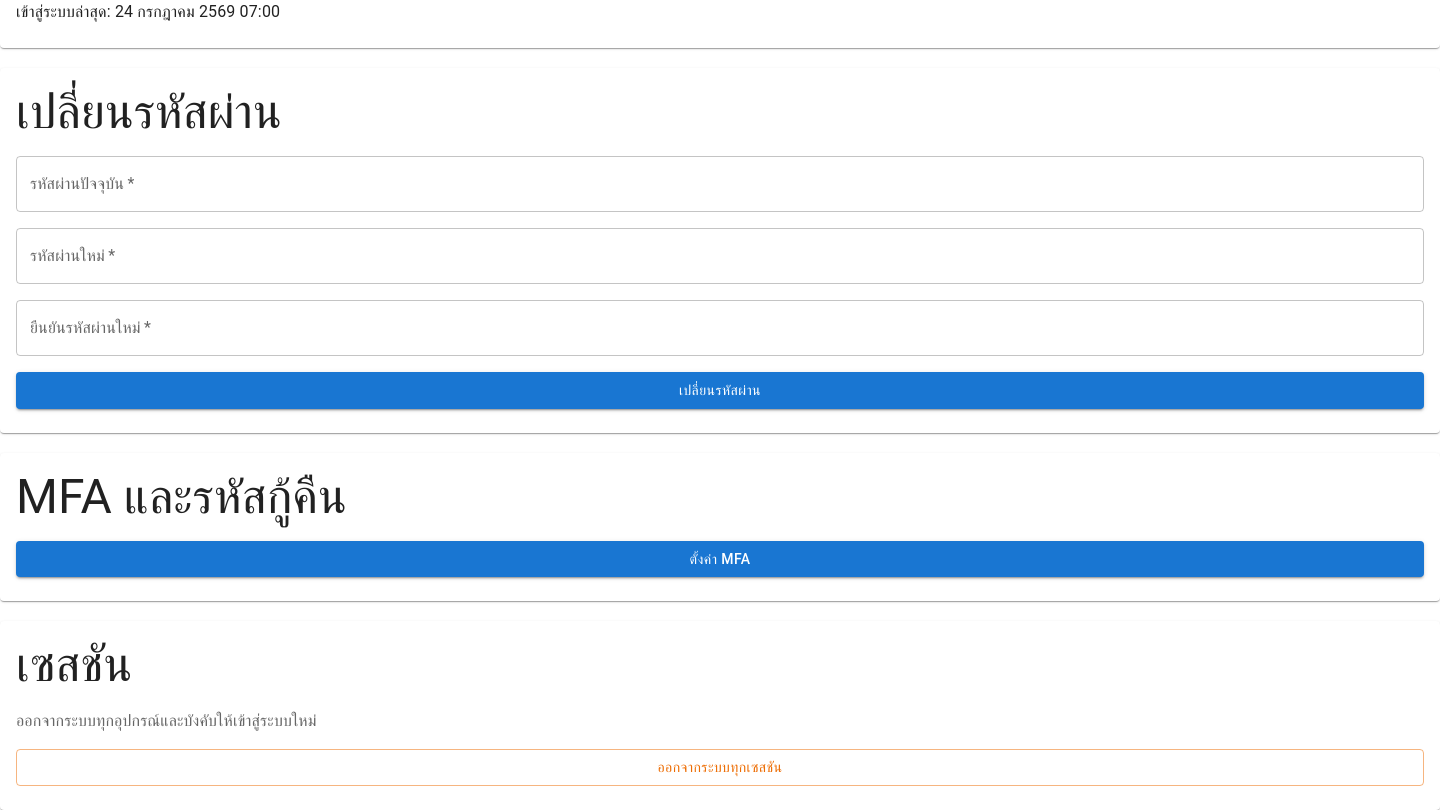
Test: AccountSecurityPage › does not retry confirmation when password step-up is cancelled
(page scrolled)
Click the button "ตั้งค่า MFA". click: x=720, y=559
box: top-left (16, 541), bottom-right (1424, 577)
(page scrolled)
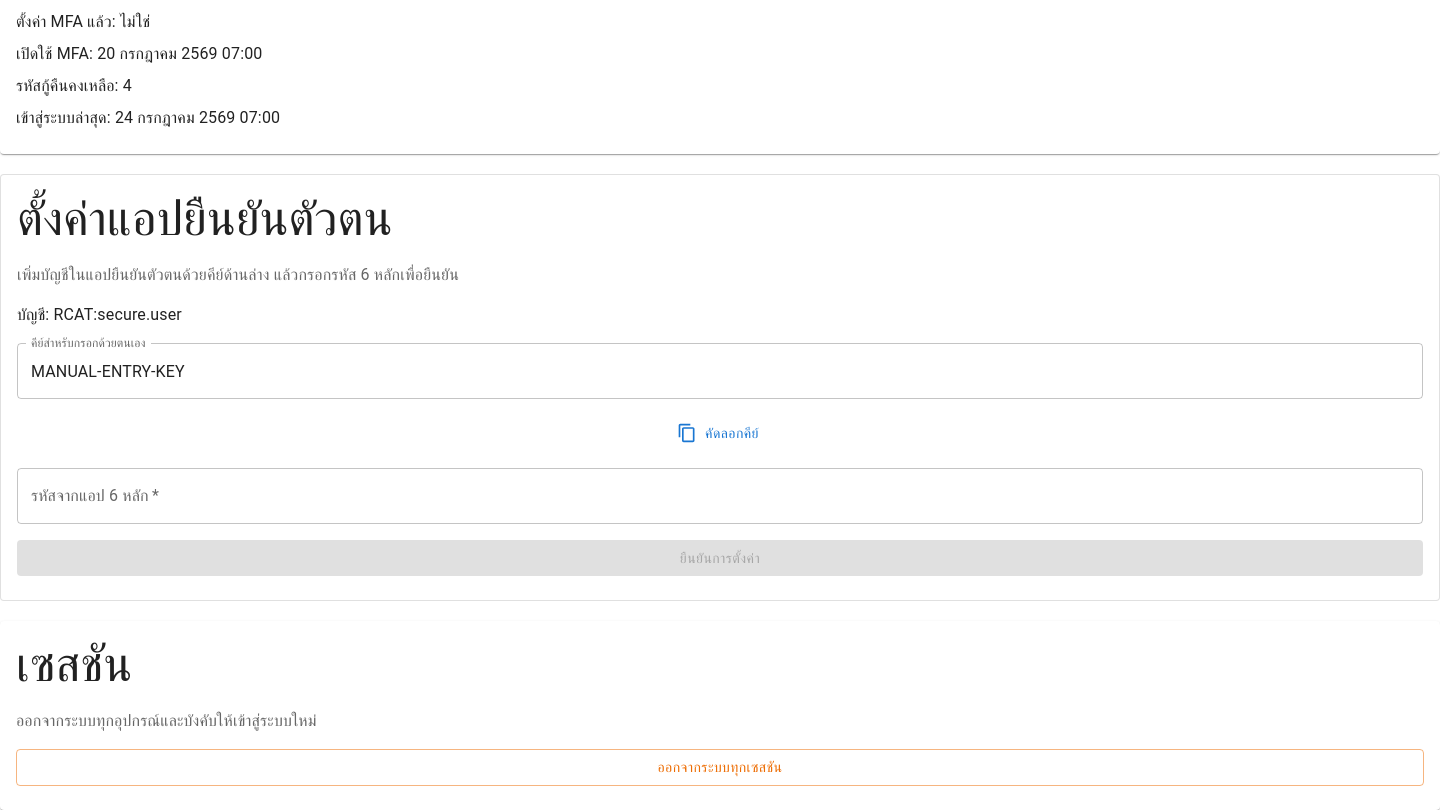
Type "123456" into the field labelled "รหัสจากแอป 6 หลัก *". click: x=720, y=496
box: top-left (17, 468), bottom-right (1423, 524)
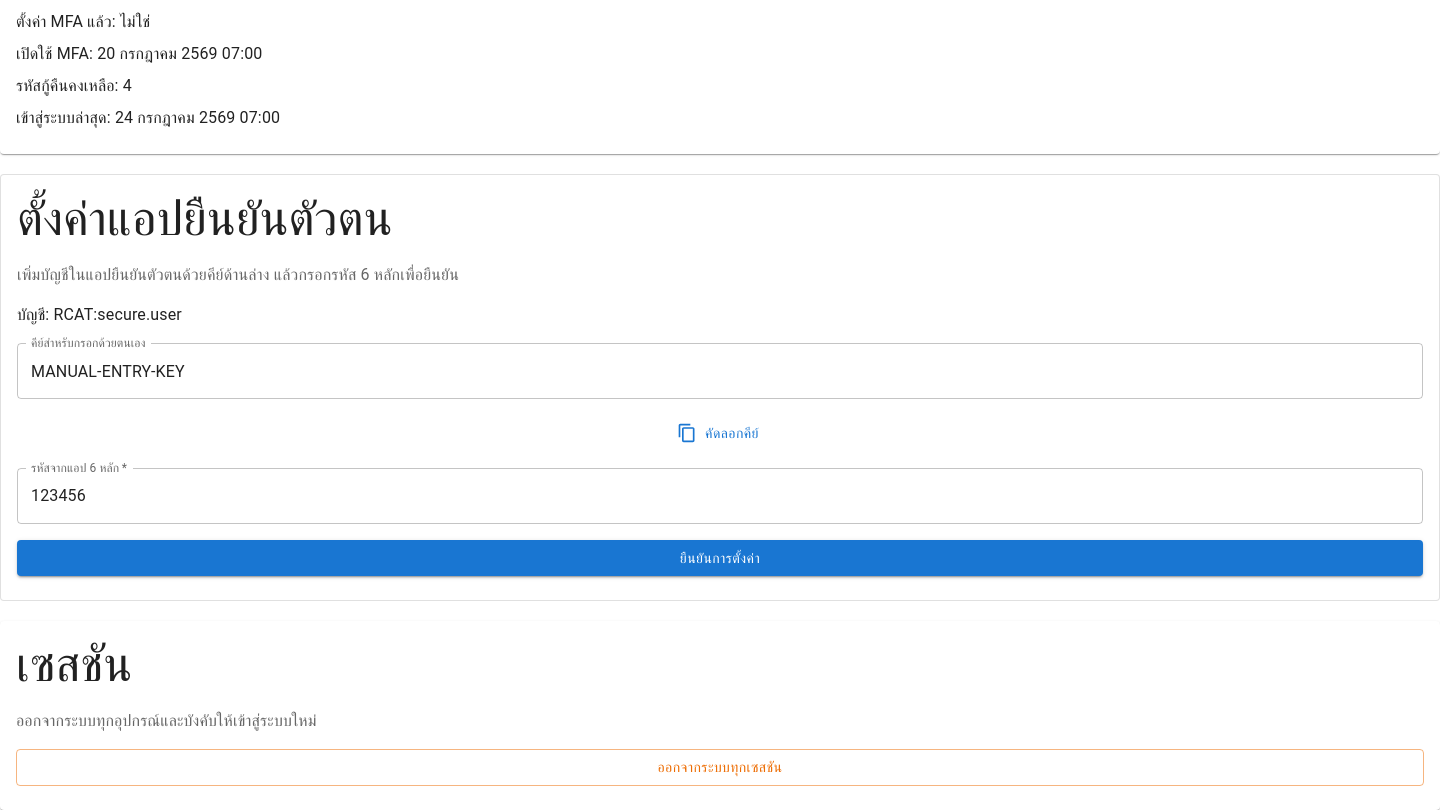
Click the button "ยืนยันการตั้งค่า". click: x=720, y=558
box: top-left (17, 540), bottom-right (1423, 576)
(page scrolled)
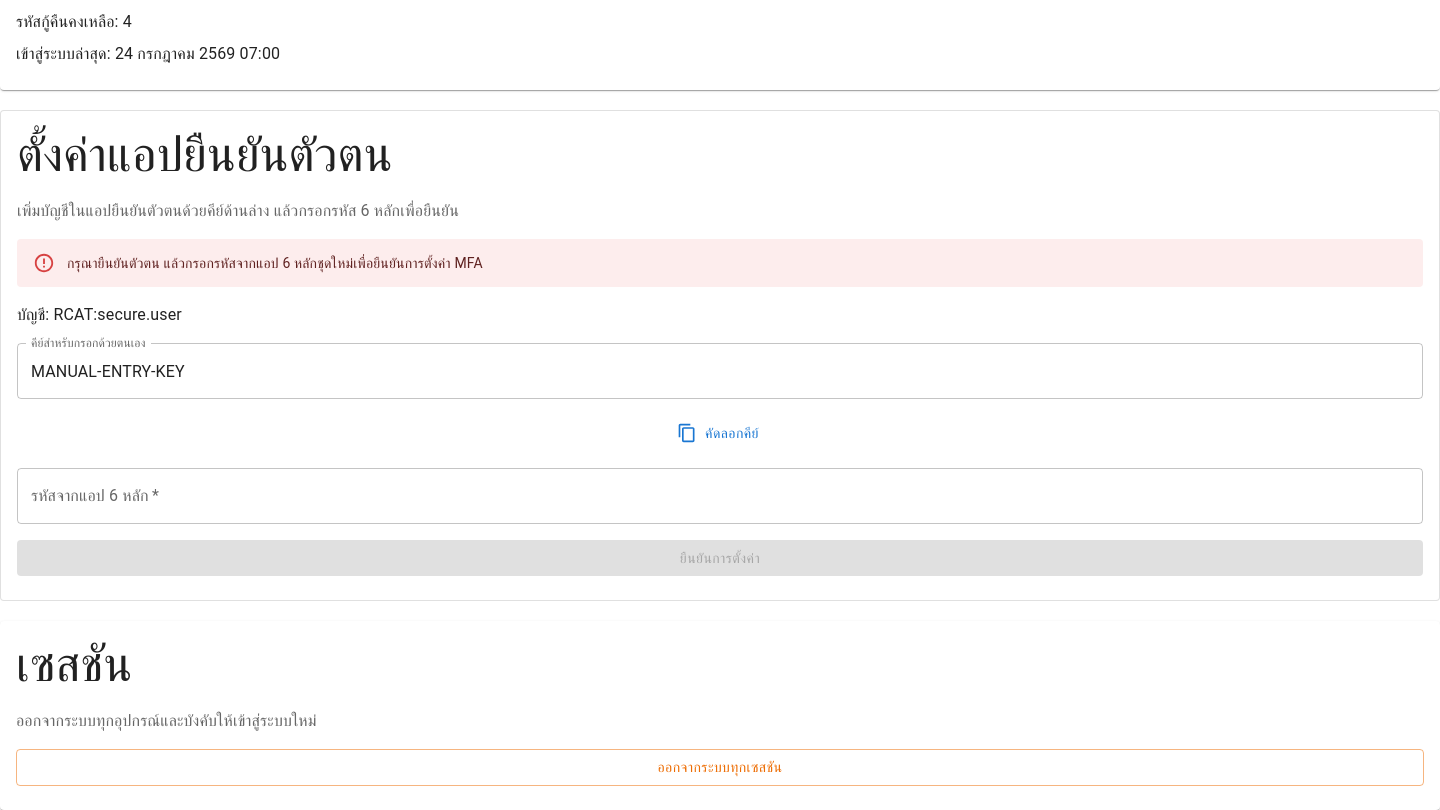
Expected: the field showing "MANUAL-ENTRY-KEY" is shown, top-left (17, 343), bottom-right (1423, 399)
Expected: the field labelled "รหัสจากแอป 6 หลัก *" is empty, top-left (17, 468), bottom-right (1423, 524)
